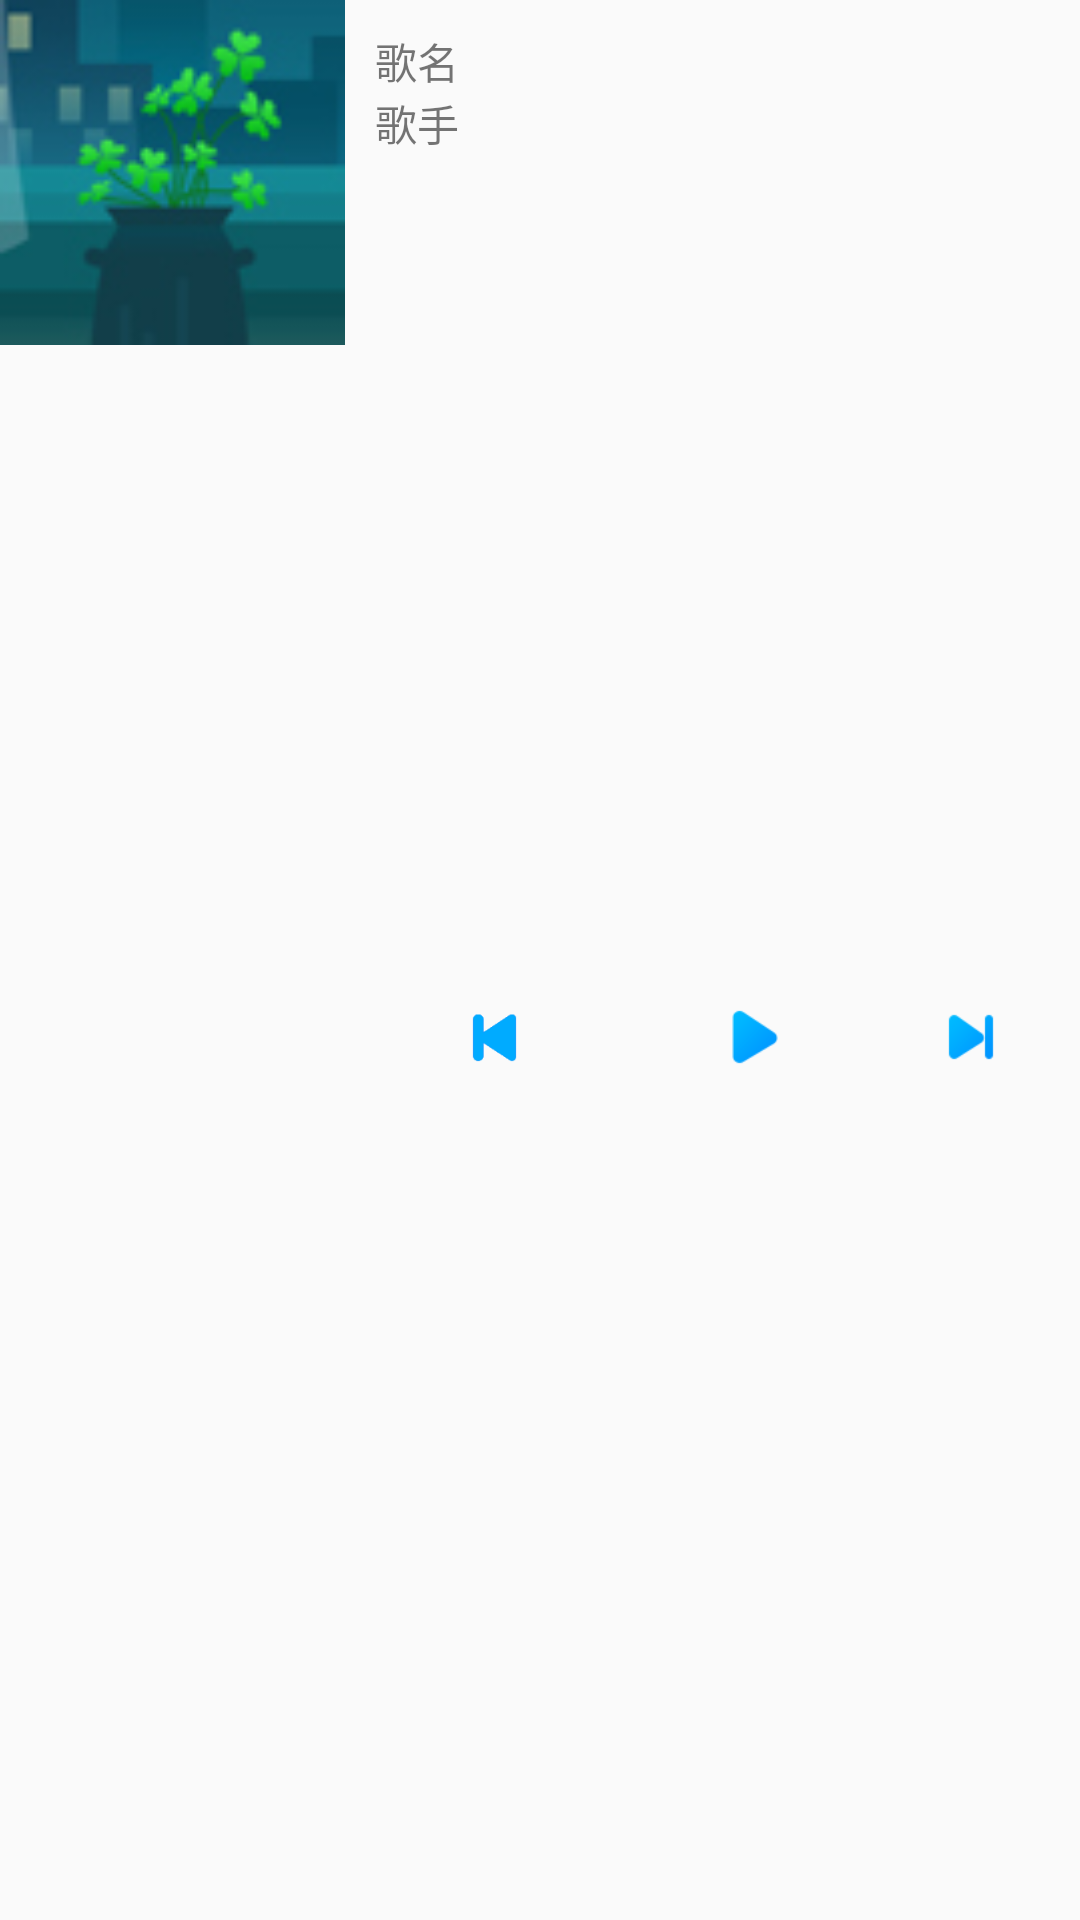

Named icons in this screenshot (1080x1920) and their bounding boxes, (x1, y1, x2, y2):
next: (948, 1014, 994, 1060)
notification pre: (473, 1014, 516, 1061)
play: (732, 1010, 778, 1064)
playbg: (0, 0, 345, 345)
